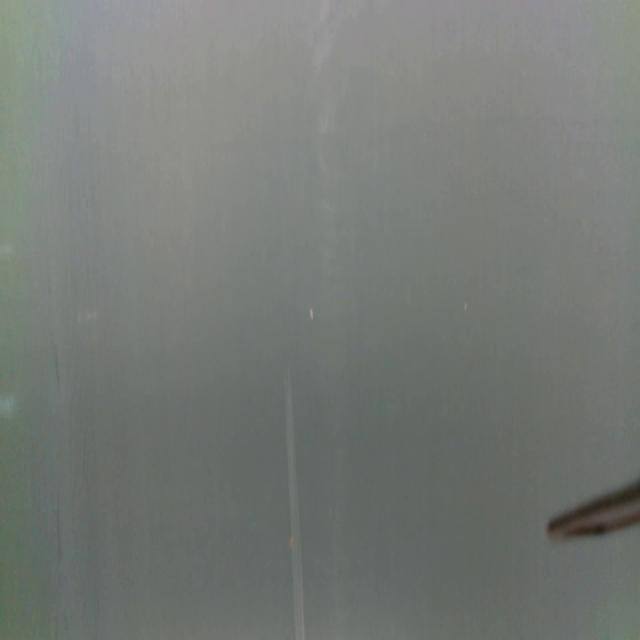crease: (285, 372, 305, 638)
